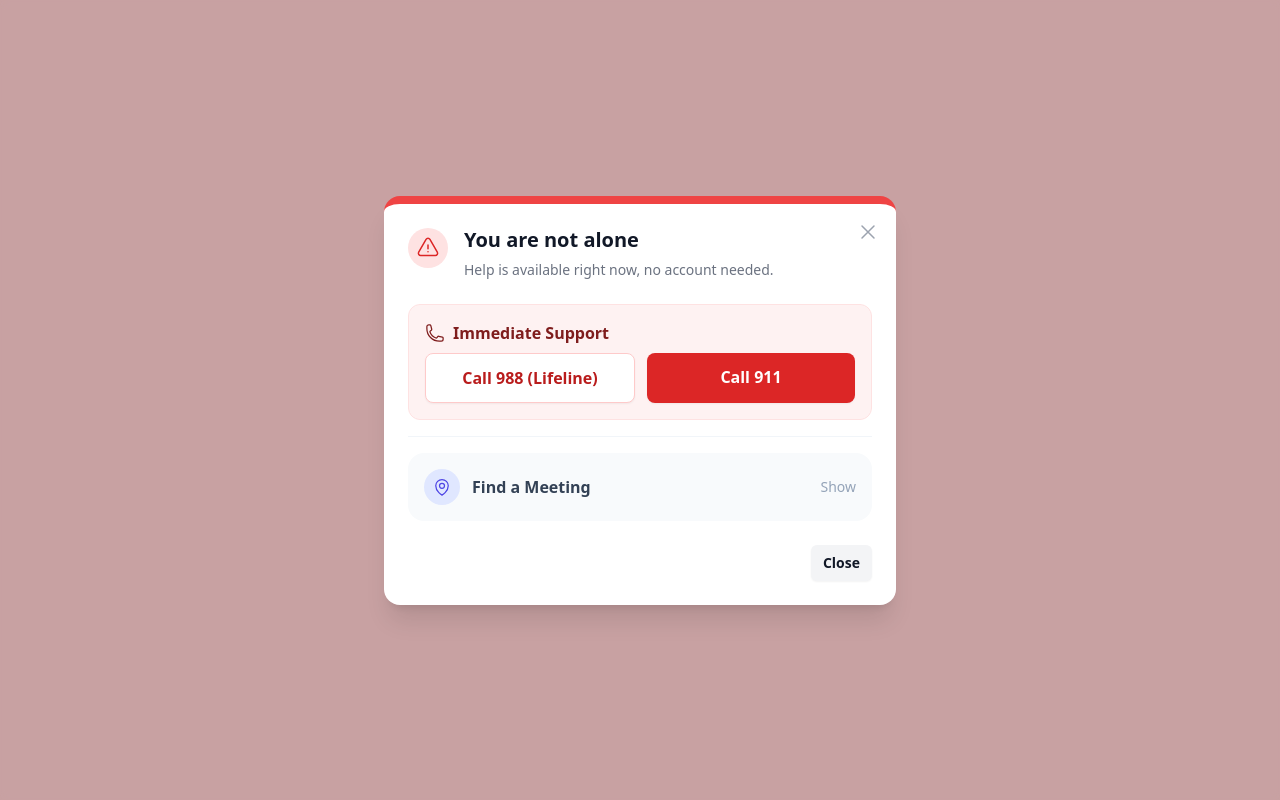
Test: CrisisResourcesPanel › reveals the meeting-finder links on demand
Expected: the text "Alcoholics Anonymous (AA)" is not shown
Click the text "Find a Meeting": click(531, 486) [472, 474, 591, 498]
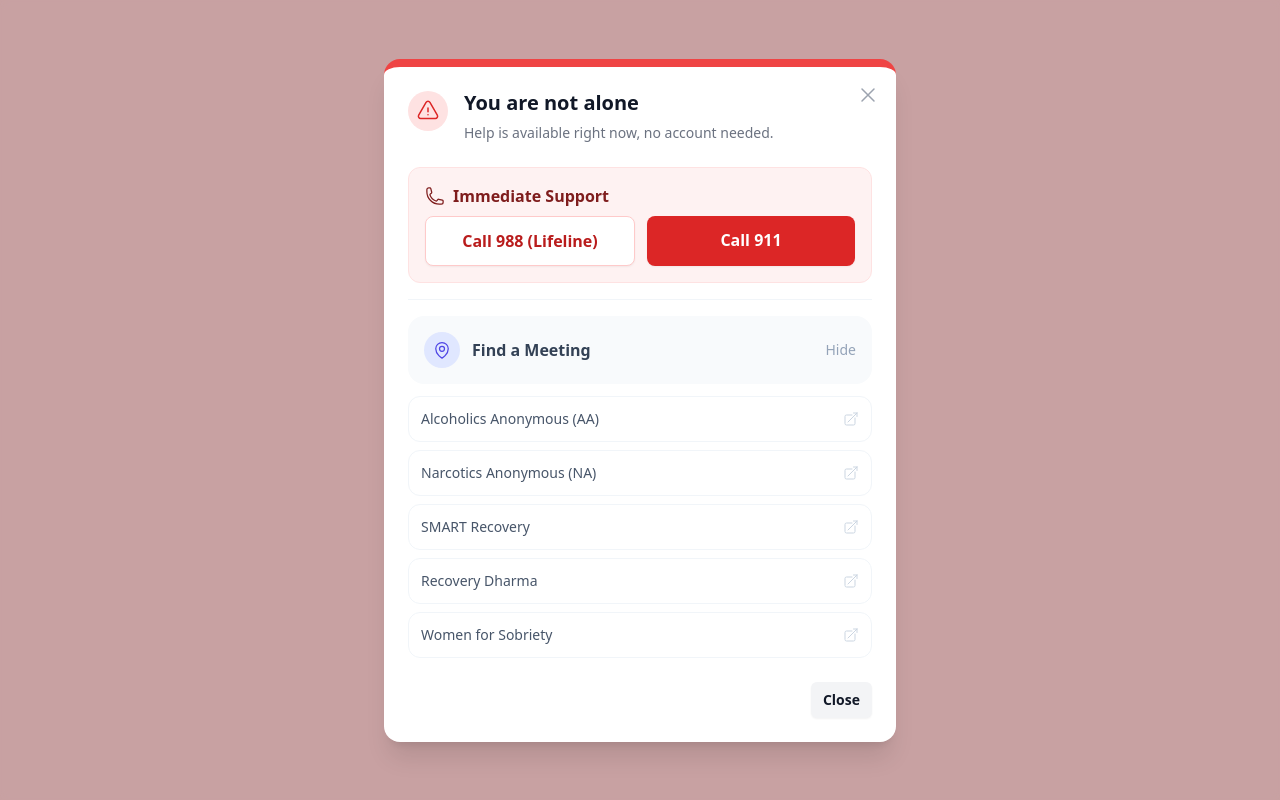
Now the text "Alcoholics Anonymous (AA)" is shown, box [421, 408, 599, 428]
